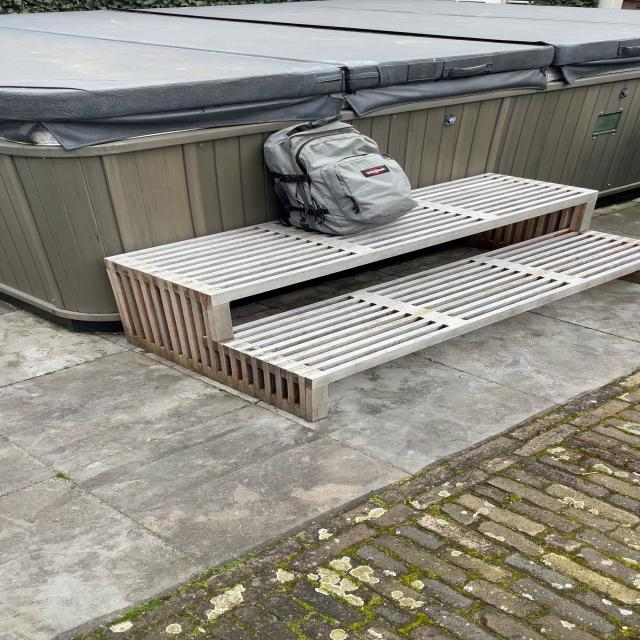backpack: (257, 115, 422, 235)
